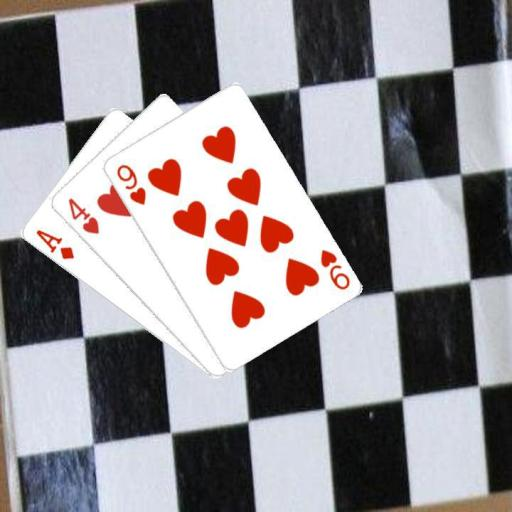4H: (64, 195, 100, 236)
9H: (113, 161, 148, 207), (317, 246, 352, 292)
AD: (32, 226, 75, 262)
